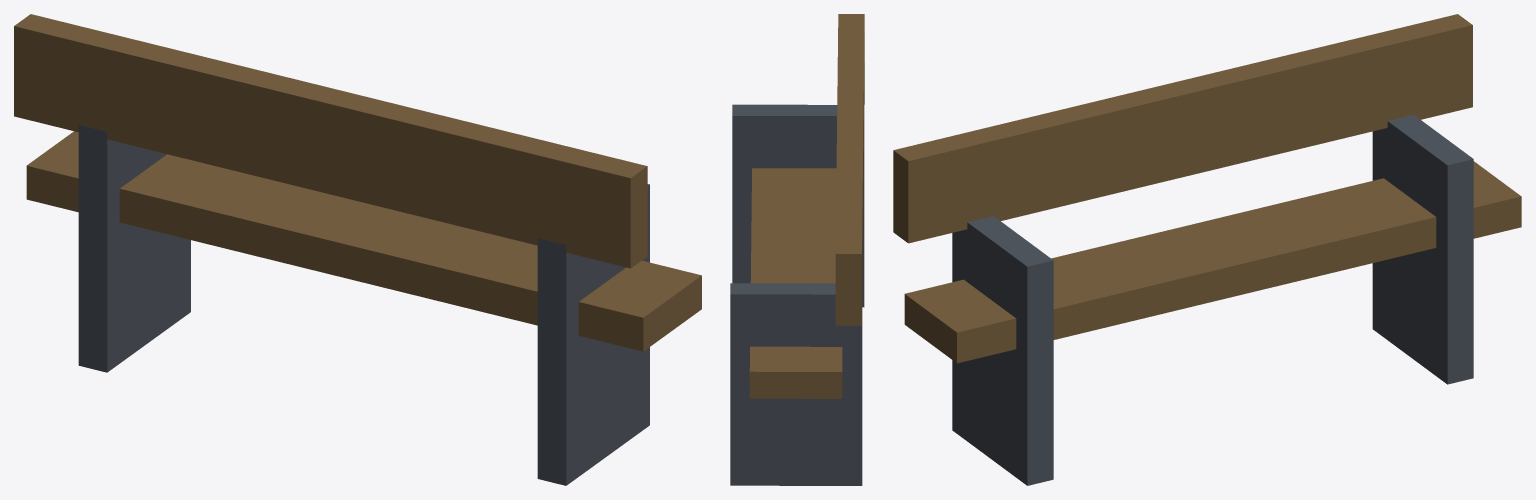
File: cell--270_450.glb
The picture shows the model from 3 angles, left to right: view 1: azimuth 30°, elevation 25°; view 2: azimuth 150°, elevation 25°; view 3: azimuth 270°, elevation 25°; orthographic projection. The views are drawn at different scales.
Parts seen in each view (by area): view 1: cell--270_450; view 2: cell--270_450; view 3: cell--270_450.
Part boxes in pixels (x1,y1,x2,y2): cell--270_450: (14,14,701,485); cell--270_450: (730,14,864,485); cell--270_450: (893,14,1521,485).
Size of the model in its own units: 0.5741 by 0.43 by 0.8311.
